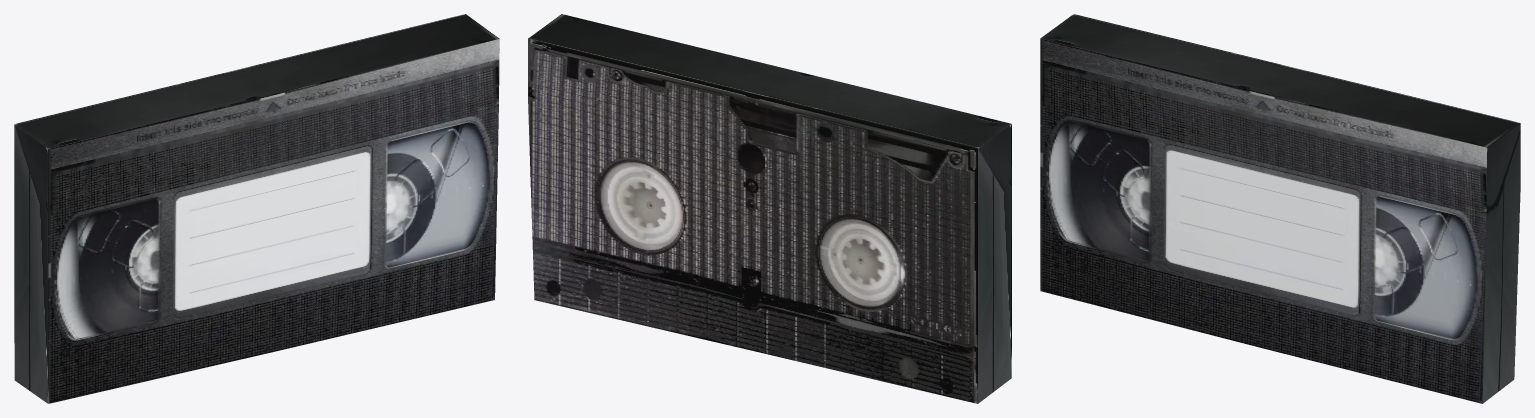
Rendered from vhs-transformed.glb.
3 views of the same model, side by side, from view 1: azimuth 30°, elevation 25°; view 2: azimuth 150°, elevation 25°; view 3: azimuth 330°, elevation 25° (orthographic).
Visible parts, largest first — view 1: vhs; view 2: vhs; view 3: vhs.
Boxes of the visible parts, left/top/right/bottom form: vhs: left=14, top=14, right=499, bottom=403; vhs: left=528, top=14, right=1011, bottom=403; vhs: left=1040, top=14, right=1520, bottom=403.
Size of the model in its own units: 8.94 by 4.93 by 1.16.
1 material, 1 textured.
